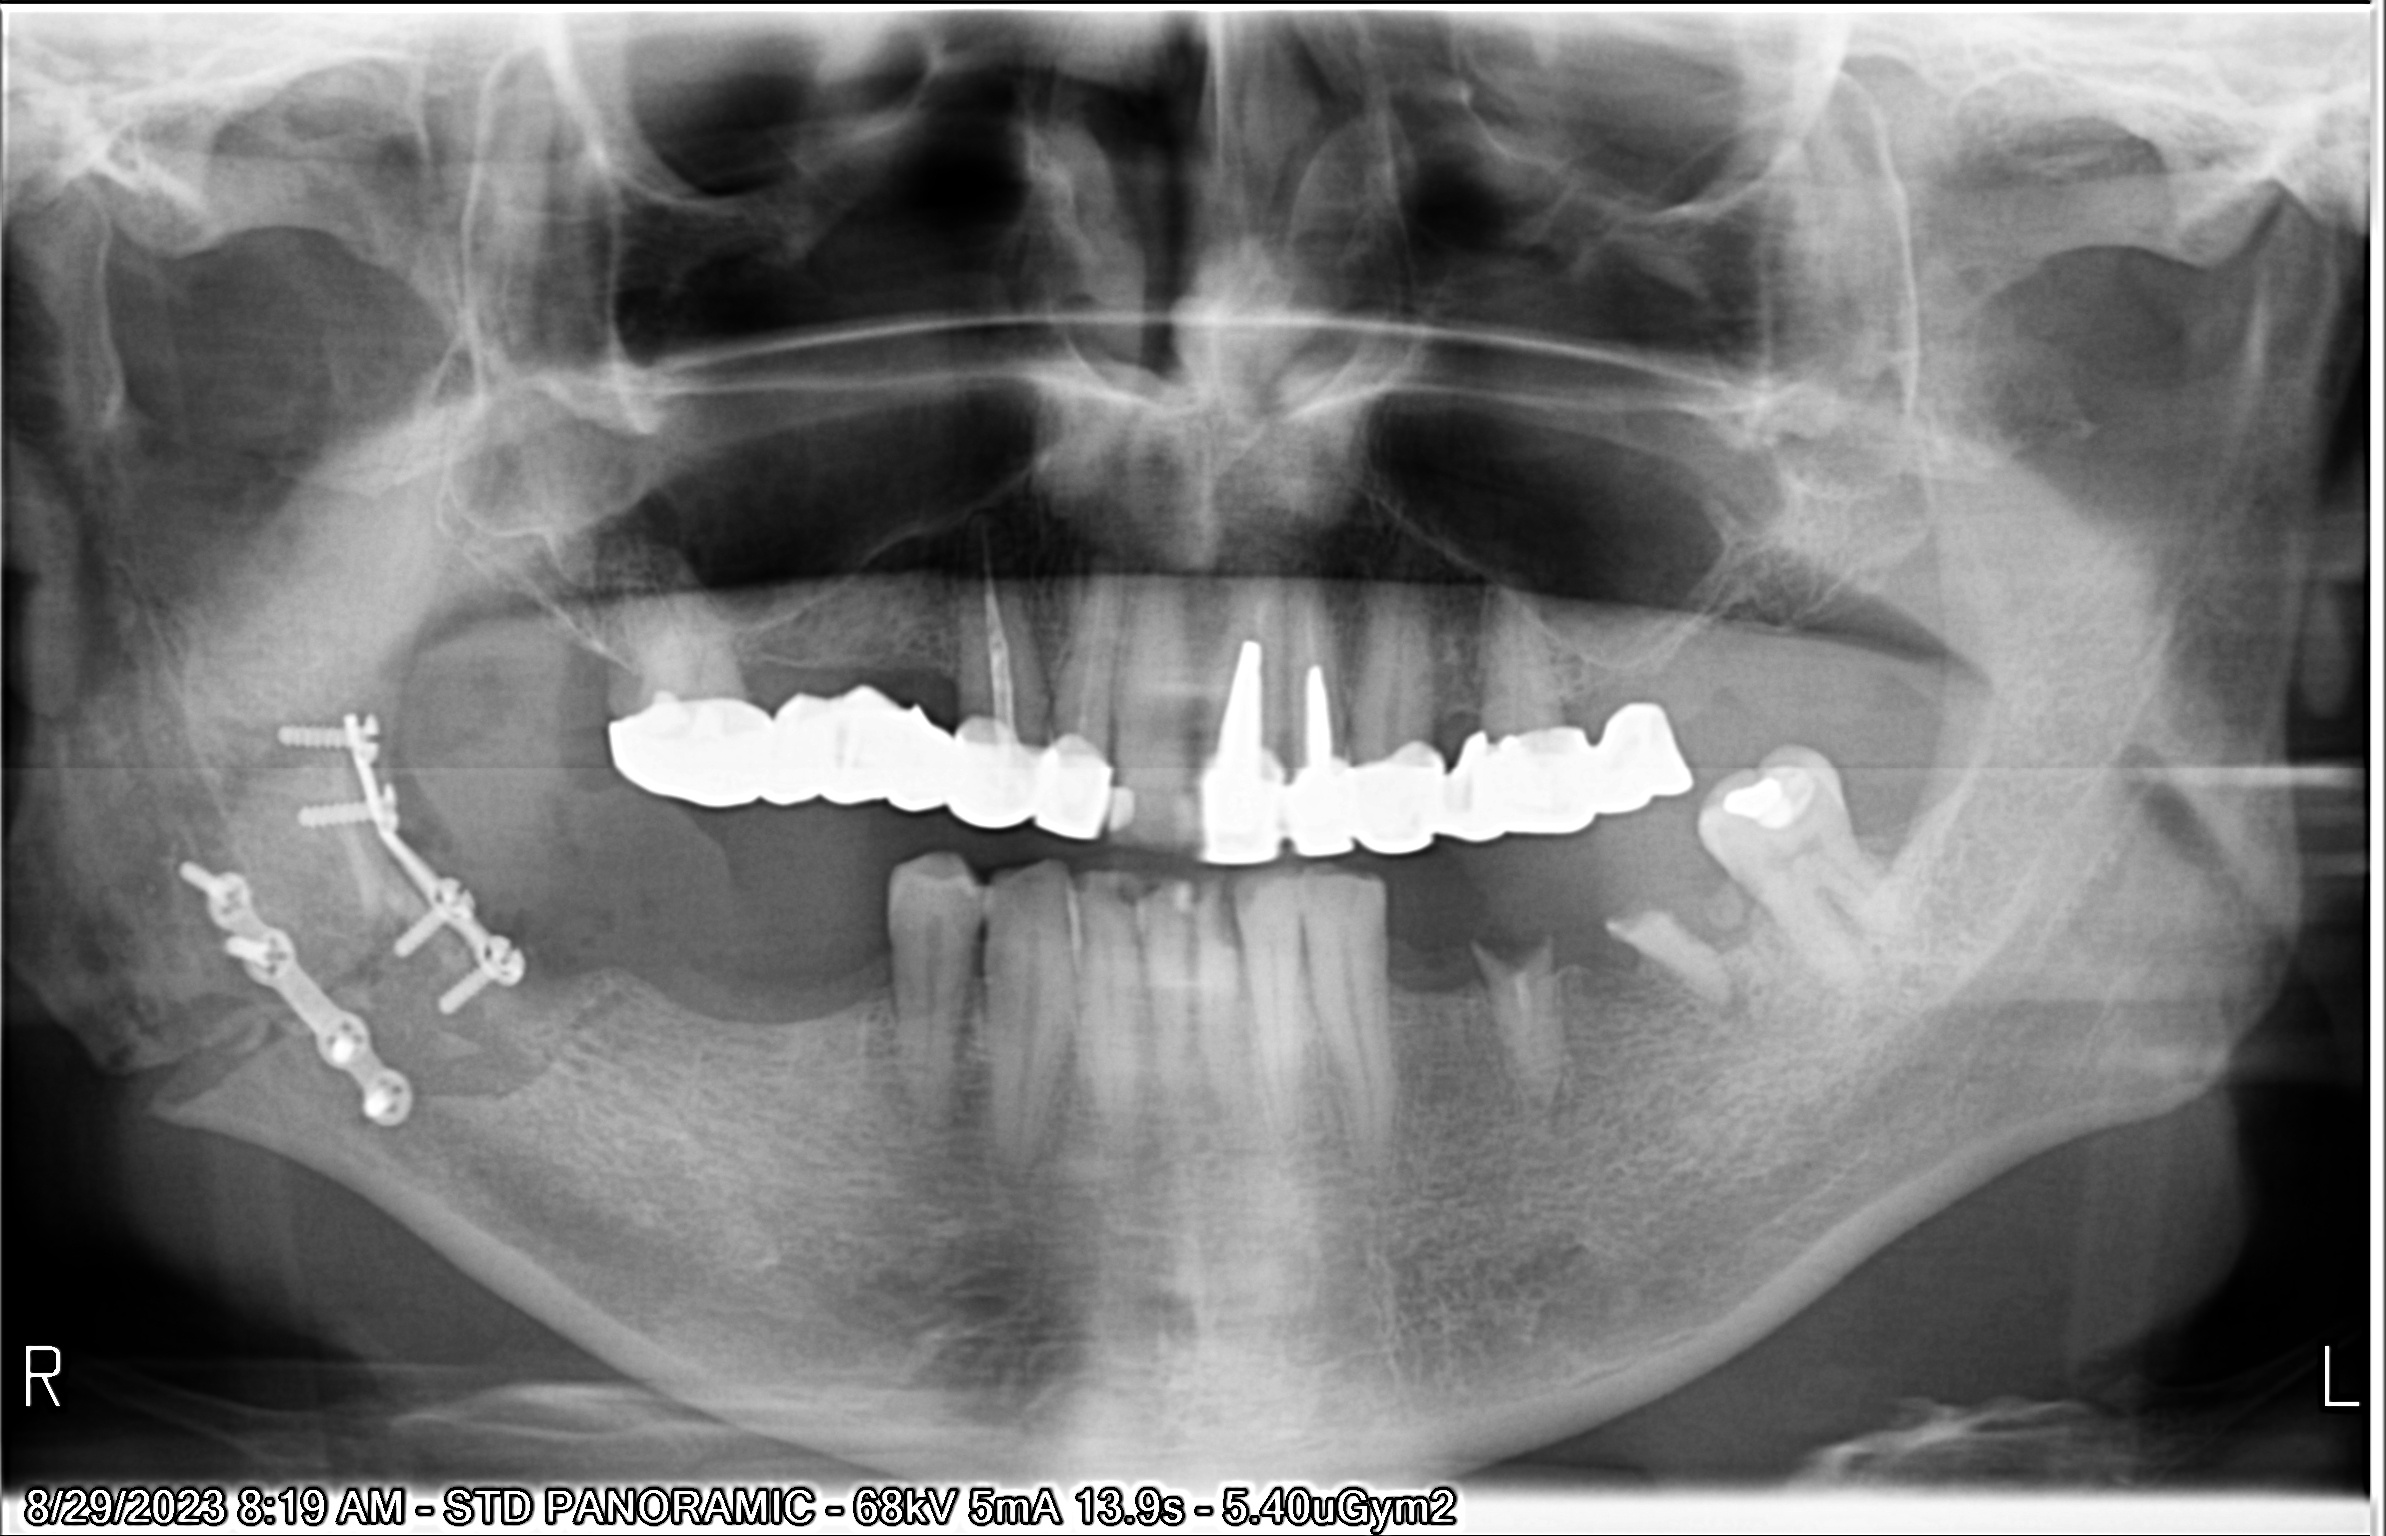CAR: (1461, 915, 1560, 992), (1193, 873, 1263, 960)
END: (1049, 539, 1134, 750), (965, 498, 1036, 724)
OBT: (1711, 745, 1838, 845), (1087, 776, 1144, 854)
PRR: (579, 673, 1130, 882), (1190, 710, 1682, 878)
ROT: (1603, 884, 1765, 1040), (1671, 859, 1763, 945)
SRD: (143, 835, 499, 1155), (252, 710, 583, 1040)
